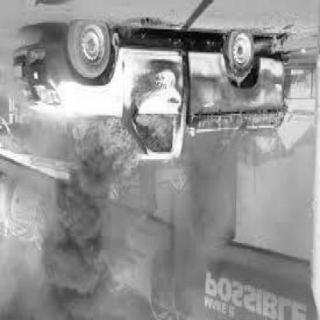Fire: (69, 112, 175, 180), (209, 112, 283, 152), (266, 38, 282, 61), (227, 75, 245, 91)
Smoke: (3, 189, 123, 320), (160, 165, 232, 288)
